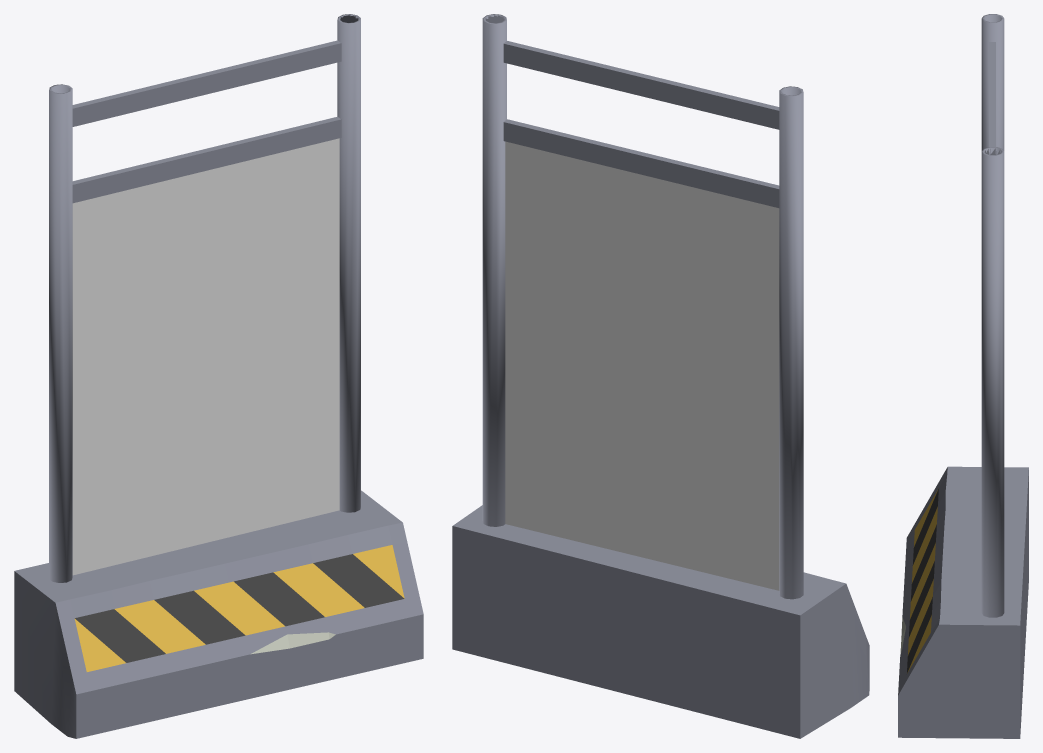
Rendered from Barrier_LargeHalf.fbx.
3 views of the same model, side by side, from view 1: azimuth 30°, elevation 25°; view 2: azimuth 150°, elevation 25°; view 3: azimuth 270°, elevation 25° (orthographic). The views are drawn at different scales.
Visible parts, largest first — view 1: Barrier_Large, Barrier_Large.001, Barrier_Large.003, Barrier_Large.002, Barrier_Large.004; view 2: Barrier_Large, Barrier_Large.001; view 3: Barrier_Large.001, Barrier_Large.003, Barrier_Large.002.
Boxes of the visible parts, x1,y1,x2,y2 form: Barrier_Large: (72,138,339,575); Barrier_Large.001: (14,14,423,738); Barrier_Large.003: (74,545,404,671); Barrier_Large.002: (75,554,404,662); Barrier_Large.004: (250,632,335,654); Barrier_Large: (505,141,779,590); Barrier_Large.001: (452,14,869,738); Barrier_Large.001: (898,14,1028,738); Barrier_Large.003: (907,488,938,673); Barrier_Large.002: (907,488,938,673).
Bounding box in the file's own units: 191 × 318 × 65.69.
